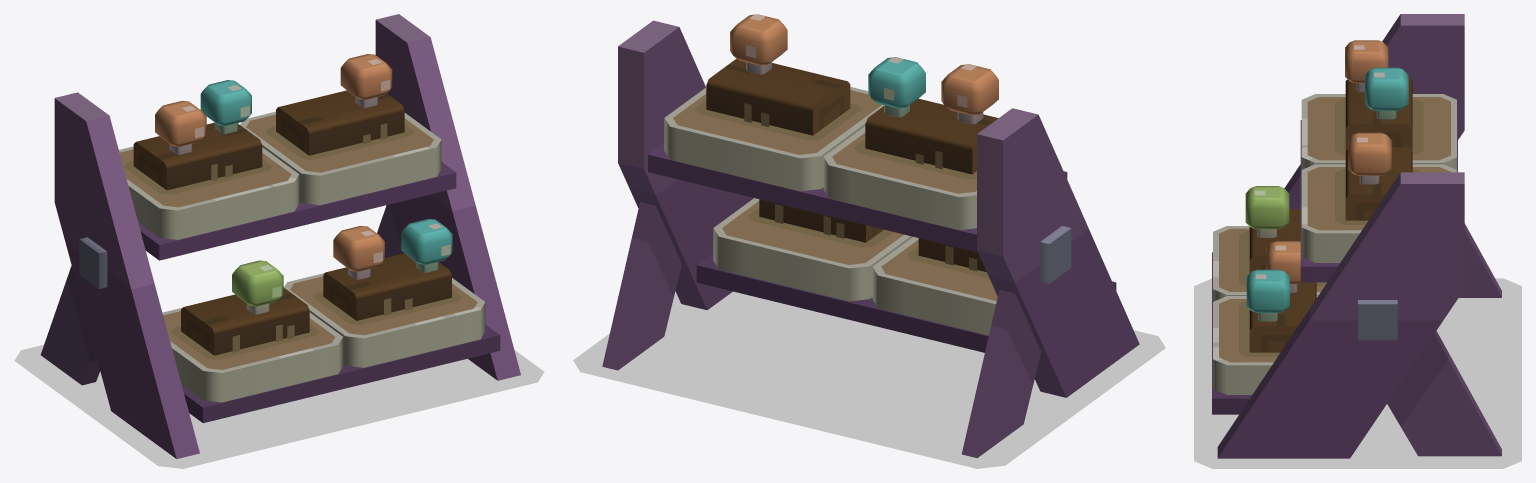
The model's file is GG_makeover_S_shrub_2.fbx.
3 views of the same model, side by side, from view 1: azimuth 30°, elevation 25°; view 2: azimuth 150°, elevation 25°; view 3: azimuth 270°, elevation 25° (orthographic). The views are drawn at different scales.
Visible parts, largest first — view 1: model, ground, model3, model5, model6, model4, model1, model2; view 2: model, ground, model1, model2, model3; view 3: model, ground, model4, model3, model2, model6, model1, model5.
Part boxes in pixels (<box>): model: <box>40,14,520,458</box>; ground: <box>14,286,544,468</box>; model3: <box>340,54,392,108</box>; model5: <box>333,226,384,279</box>; model6: <box>401,219,452,272</box>; model4: <box>232,260,283,314</box>; model1: <box>155,100,206,154</box>; model2: <box>200,80,251,134</box>; model: <box>602,20,1139,458</box>; ground: <box>573,291,1165,468</box>; model1: <box>941,64,998,124</box>; model2: <box>868,57,925,117</box>; model3: <box>730,14,787,74</box>; model: <box>1212,14,1501,458</box>; ground: <box>1194,278,1521,468</box>; model4: <box>1245,186,1289,237</box>; model3: <box>1348,132,1391,184</box>; model2: <box>1365,67,1408,119</box>; model6: <box>1246,269,1289,321</box>; model1: <box>1345,40,1388,92</box>; model5: <box>1266,241,1303,292</box>.
Bounding box in the file's own units: 5.75 × 3.96 × 4.18.
